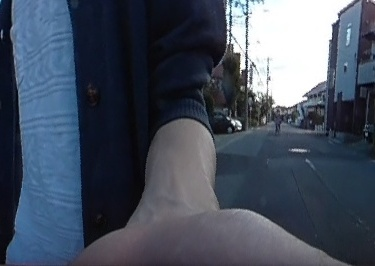person: (274, 108, 282, 130)
